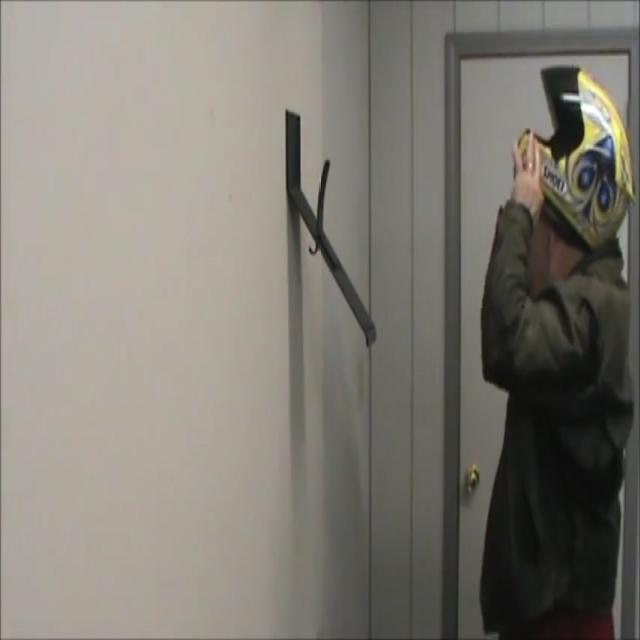Helmet_Wearer: (496, 64, 632, 281)
Jacket_Wearer: (482, 198, 636, 612)
Person: (480, 67, 636, 640)
